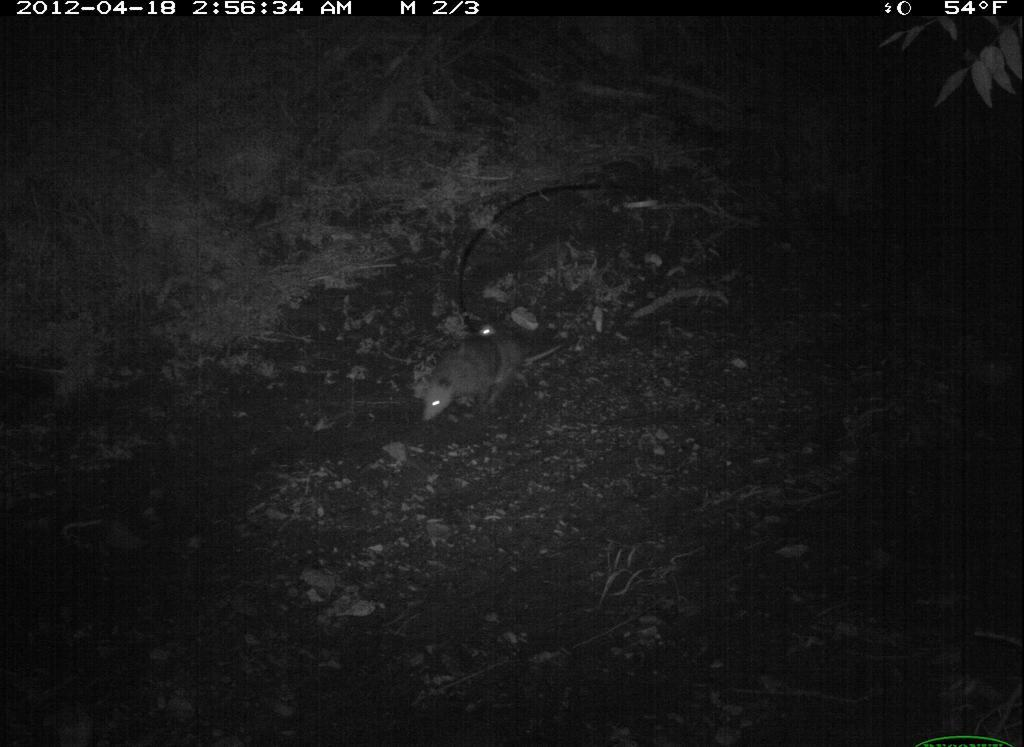opossum: (415, 322, 537, 434)
